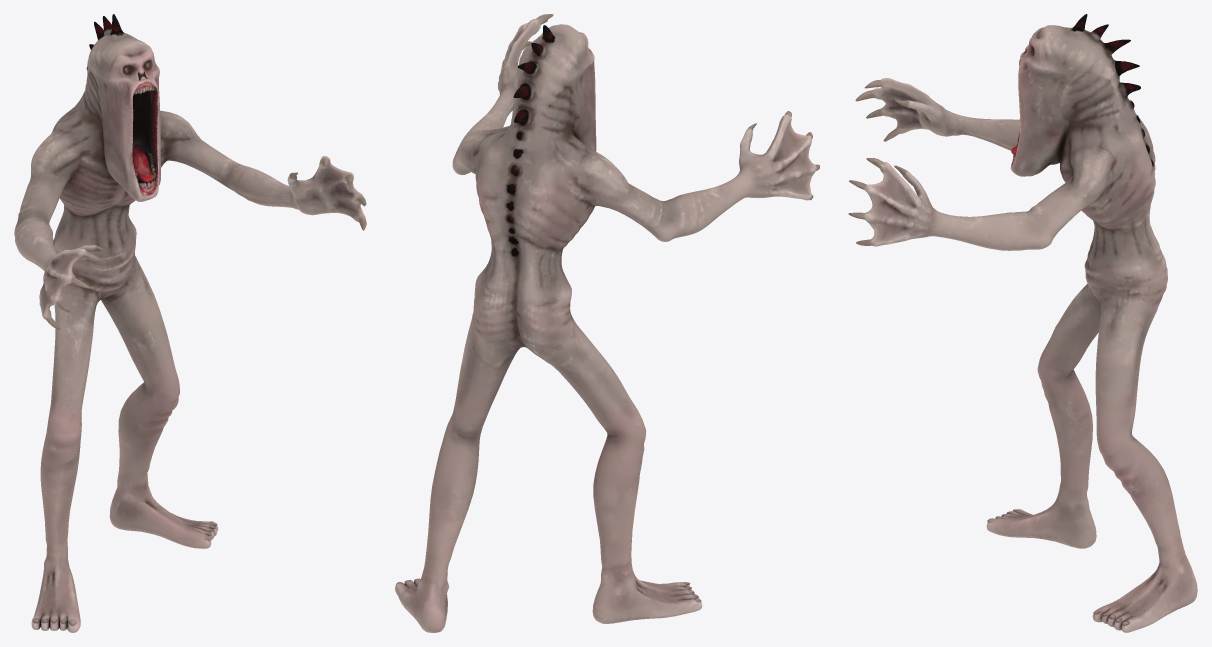
File: MZ4250 - The Hungry.glb
3 renders of one model, left to right at view 1: azimuth 30°, elevation 25°; view 2: azimuth 150°, elevation 25°; view 3: azimuth 270°, elevation 25°, orthographic. The views are drawn at different scales.
Parts seen in each view (by area): view 1: Body.002; view 2: Body.002; view 3: Body.002.
Boxes of the visible parts, bbox=[...] form: Body.002: bbox=[14, 14, 366, 632]; Body.002: bbox=[395, 14, 819, 632]; Body.002: bbox=[848, 14, 1197, 632].
Size of the model in its own units: 60.6 by 106 by 59.63.
1 material, 1 textured.
